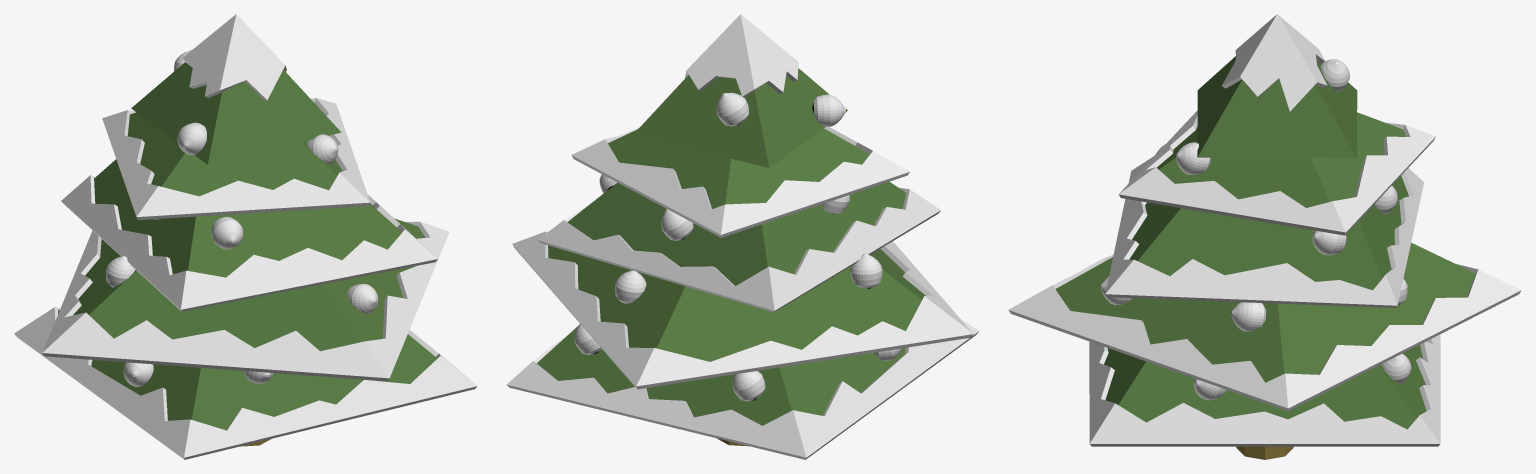
Rendered from tree.fbx.
3 renders of one model, left to right at view 1: azimuth 30°, elevation 25°; view 2: azimuth 150°, elevation 25°; view 3: azimuth 270°, elevation 25°, orthographic. The views are drawn at different scales.
Visible parts, largest first — view 1: Plane.001, Plane, svetielko.002, svetielko.001, svetielko.004, svetielko.003, svetielko.011, svetielko.015; view 2: Plane, Plane.001, svetielko.008, svetielko.011, svetielko.001, svetielko.010, svetielko.016, svetielko.007, svetielko.012; view 3: Plane, Plane.001, svetielko.005, svetielko.003, svetielko.008, svetielko.006, Cylinder, svetielko.012.
Part boxes in pixels (left/top/right/bottom): Plane.001: left=14, top=14, right=477, bottom=459; Plane: left=58, top=62, right=437, bottom=430; svetielko.002: left=211, top=217, right=243, bottom=249; svetielko.001: left=177, top=122, right=206, bottom=155; svetielko.004: left=347, top=284, right=378, bottom=313; svetielko.003: left=307, top=134, right=338, bottom=163; svetielko.011: left=106, top=256, right=135, bottom=287; svetielko.015: left=123, top=362, right=153, bottom=386; Plane: left=537, top=68, right=925, bottom=425; Plane.001: left=506, top=14, right=978, bottom=459; svetielko.008: left=716, top=92, right=748, bottom=126; svetielko.011: left=850, top=253, right=882, bottom=288; svetielko.001: left=812, top=94, right=845, bottom=126; svetielko.010: left=732, top=371, right=765, bottom=401; svetielko.016: left=615, top=270, right=646, bottom=303; svetielko.007: left=661, top=209, right=693, bottom=240; svetielko.012: left=574, top=324, right=601, bottom=354; Plane: left=1055, top=56, right=1475, bottom=429; Plane.001: left=1008, top=14, right=1521, bottom=446; svetielko.005: left=1231, top=302, right=1266, bottom=331; svetielko.003: left=1176, top=142, right=1210, bottom=174; svetielko.008: left=1320, top=59, right=1349, bottom=92; svetielko.006: left=1312, top=230, right=1346, bottom=255; Cylinder: left=1236, top=446, right=1293, bottom=459; svetielko.012: left=1381, top=353, right=1411, bottom=383.
Bounding box in the file's own units: 151 × 140 × 151.
